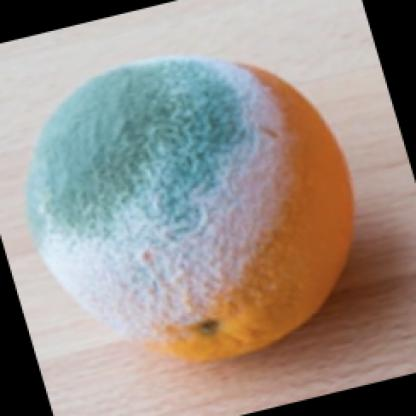rotten_orange: (32, 60, 366, 372)
